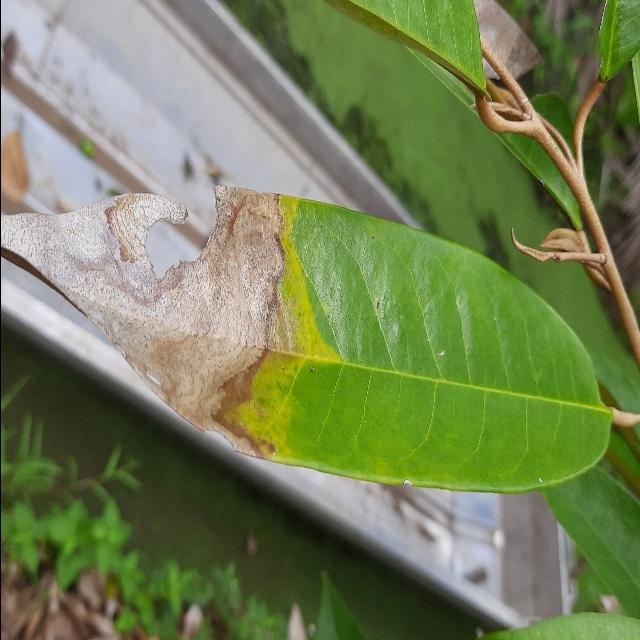Leaf Blight: (0, 174, 621, 501)
